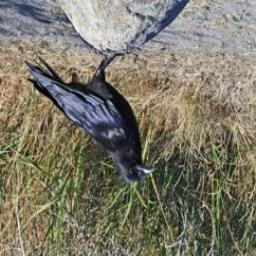Crow: (22, 43, 157, 188)
